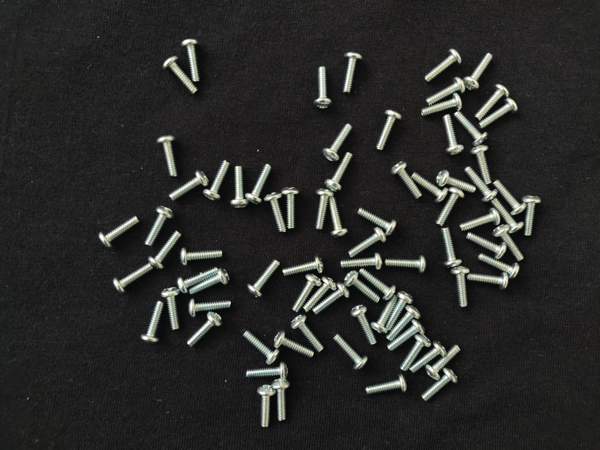shortscrew: (98, 215, 142, 252), (424, 343, 462, 384), (162, 56, 200, 95), (147, 230, 183, 271), (184, 311, 222, 349), (169, 168, 210, 203), (290, 313, 325, 353), (321, 123, 355, 164), (112, 262, 154, 295), (386, 305, 421, 344), (422, 367, 459, 403), (475, 84, 511, 121), (425, 47, 462, 83), (492, 225, 527, 263), (493, 179, 528, 217), (303, 276, 338, 313), (333, 333, 368, 370), (344, 270, 381, 305), (243, 332, 281, 366), (409, 341, 447, 375), (387, 319, 425, 353), (361, 266, 399, 300), (479, 98, 519, 130), (145, 205, 174, 249), (393, 161, 424, 202), (434, 188, 465, 229), (358, 207, 400, 237), (177, 265, 219, 295), (492, 198, 526, 235), (455, 111, 489, 148), (313, 283, 351, 316), (291, 274, 323, 313), (204, 158, 231, 204), (347, 227, 388, 257), (401, 333, 431, 374), (465, 168, 499, 204), (326, 152, 355, 194), (248, 260, 280, 298), (463, 51, 493, 91), (364, 374, 410, 400), (274, 332, 315, 361), (371, 294, 400, 335), (426, 76, 467, 105), (376, 108, 404, 150), (190, 268, 232, 296), (246, 163, 272, 208), (421, 91, 464, 118), (437, 169, 477, 198), (478, 254, 522, 280), (386, 290, 413, 332), (411, 174, 450, 203), (139, 301, 164, 346), (467, 233, 507, 261), (352, 304, 378, 347), (282, 252, 326, 277), (264, 192, 289, 234), (448, 266, 473, 308), (326, 196, 349, 241), (441, 116, 466, 157), (156, 135, 179, 179), (245, 361, 289, 384), (466, 269, 510, 292), (439, 227, 463, 269), (342, 51, 365, 94), (470, 145, 495, 184), (161, 285, 182, 331), (257, 384, 278, 430), (461, 209, 500, 233), (313, 67, 334, 111), (187, 298, 233, 318), (312, 188, 334, 229), (521, 195, 543, 236), (229, 165, 249, 210), (272, 376, 291, 423), (382, 255, 428, 274), (182, 36, 200, 83), (281, 186, 300, 229), (341, 252, 384, 271), (180, 248, 224, 265)
